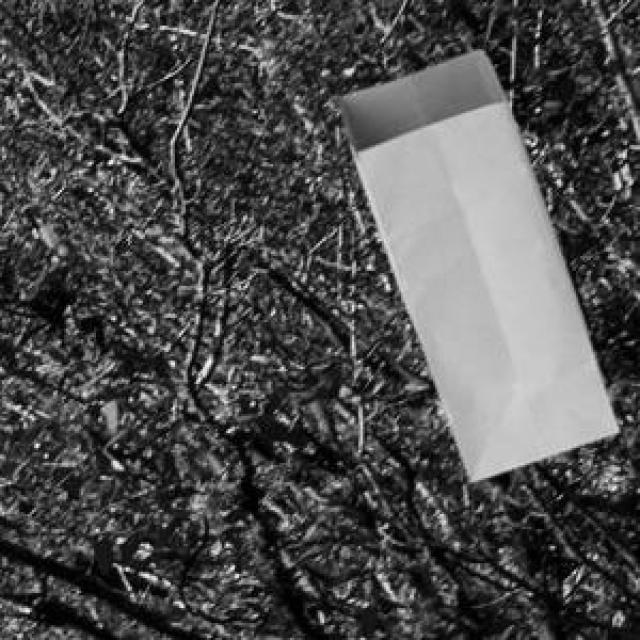paper: (337, 47, 614, 478)
